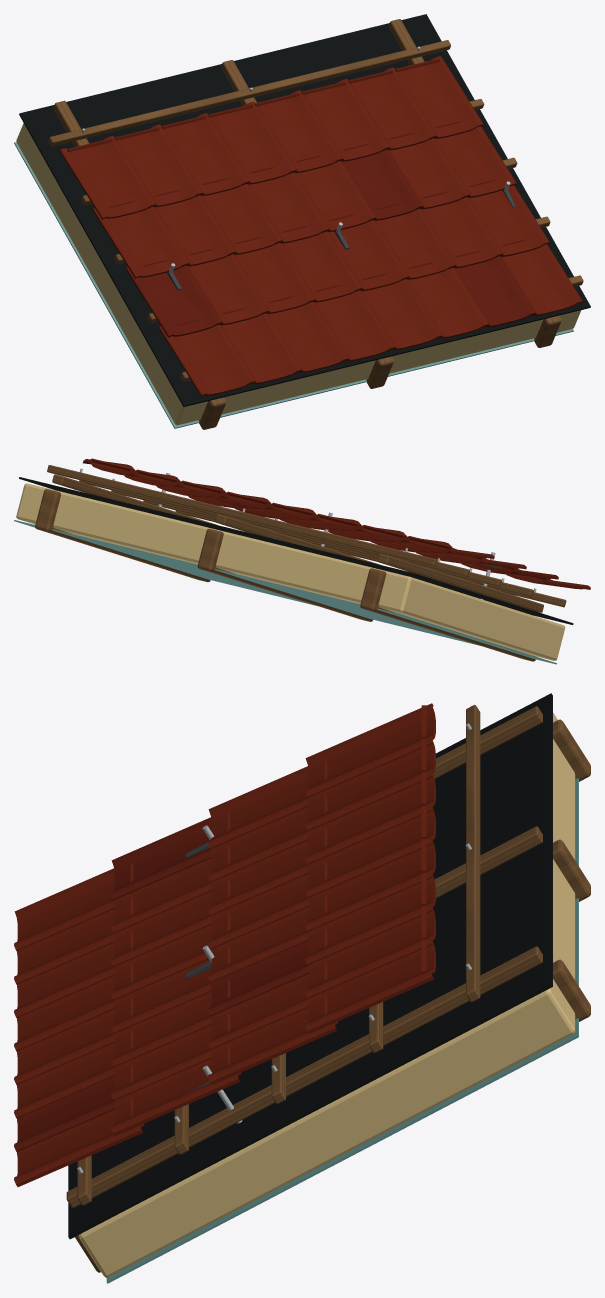
The model's file is modell.glb.
3 views of the same model, one above another, from view 1: azimuth 30°, elevation 25°; view 2: azimuth 150°, elevation 25°; view 3: azimuth 270°, elevation 25° (orthographic). The views are drawn at different scales.
Visible parts, largest first — view 1: g05-deckziegel_deckung, g05-zusatzebene_zusatzebene, g05-daemmung_daemmung, g05-deckziegel_deckung.001, g05-lattung_lattung, g05-luftdichtheit_luftdichtheit, g05-sparren_tragwerk; view 2: g05-daemmung_daemmung, g05-lattung_lattung, g05-deckziegel_deckung, g05-sparren_tragwerk, g05-luftdichtheit_luftdichtheit, g05-zusatzebene_zusatzebene, g05-deckziegel_deckung.001; view 3: g05-deckziegel_deckung, g05-zusatzebene_zusatzebene, g05-daemmung_daemmung, g05-lattung_lattung, g05-deckziegel_deckung.001, g05-luftdichtheit_luftdichtheit, g05-sparren_tragwerk.
Boxes of the visible parts, x1,y1,x2,y2 form: g05-deckziegel_deckung: [59, 56, 583, 396]; g05-zusatzebene_zusatzebene: [19, 14, 590, 406]; g05-daemmung_daemmung: [16, 123, 581, 425]; g05-deckziegel_deckung.001: [125, 149, 536, 337]; g05-lattung_lattung: [48, 19, 583, 381]; g05-luftdichtheit_luftdichtheit: [14, 142, 573, 428]; g05-sparren_tragwerk: [199, 315, 561, 429]; g05-daemmung_daemmung: [16, 483, 565, 660]; g05-lattung_lattung: [47, 465, 566, 612]; g05-deckziegel_deckung: [83, 458, 590, 589]; g05-sparren_tragwerk: [35, 489, 535, 661]; g05-luftdichtheit_luftdichtheit: [14, 520, 556, 664]; g05-zusatzebene_zusatzebene: [19, 477, 573, 624]; g05-deckziegel_deckung.001: [214, 497, 558, 579]; g05-deckziegel_deckung: [14, 703, 435, 1186]; g05-zusatzebene_zusatzebene: [68, 693, 552, 1239]; g05-daemmung_daemmung: [79, 712, 575, 1277]; g05-lattung_lattung: [66, 705, 542, 1208]; g05-deckziegel_deckung.001: [14, 817, 308, 1151]; g05-luftdichtheit_luftdichtheit: [106, 778, 578, 1283]; g05-sparren_tragwerk: [75, 719, 590, 1272].
Size of the model in its own units: 2.09 by 1.07 by 1.75.
Materials: 8 (3 with a texture image).
